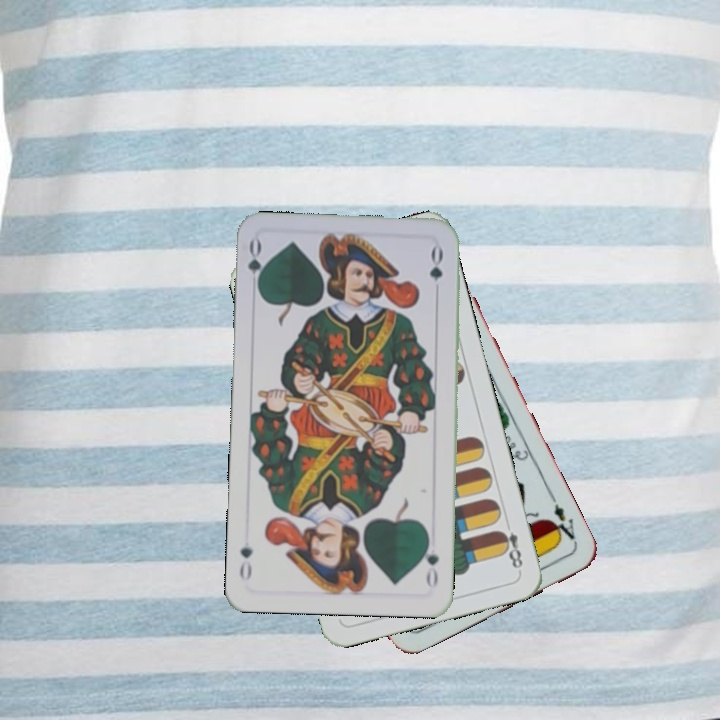E8: (495, 516, 525, 574)
EA: (545, 491, 579, 546)
GO: (244, 236, 269, 296), (419, 532, 442, 591)
